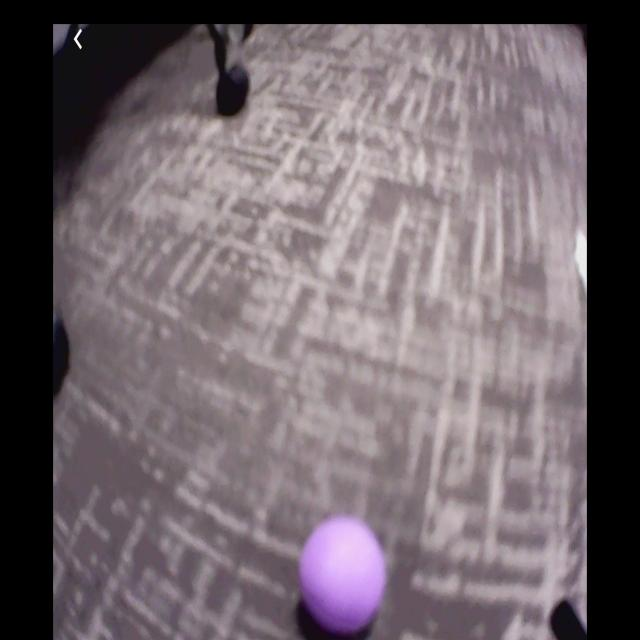ball: (303, 516, 387, 633)
